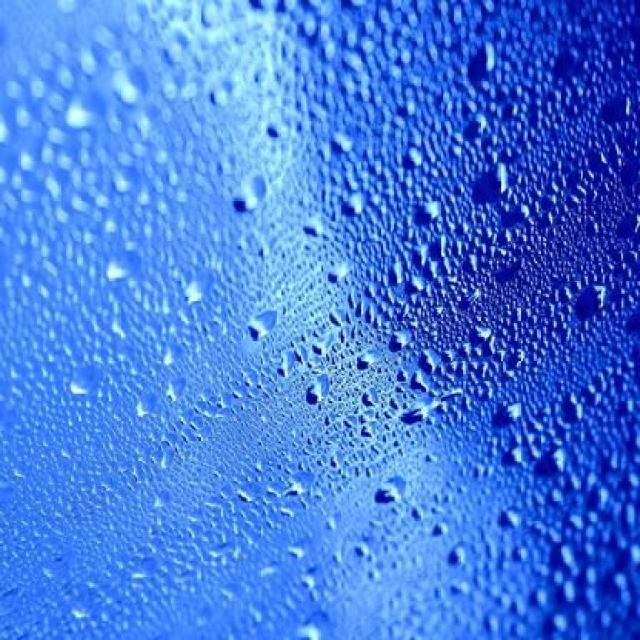raindrop: (60, 348, 120, 428), (176, 258, 238, 334), (473, 154, 531, 226), (220, 176, 282, 239), (328, 174, 381, 243), (239, 306, 298, 364), (274, 470, 335, 525), (472, 36, 516, 110), (91, 238, 143, 294), (565, 278, 626, 324), (392, 398, 434, 464), (161, 348, 210, 404), (448, 319, 504, 367), (404, 188, 455, 235), (310, 261, 362, 303), (367, 476, 412, 524), (302, 373, 337, 428), (128, 386, 172, 429), (408, 342, 448, 389), (146, 334, 193, 374), (496, 394, 534, 438)
